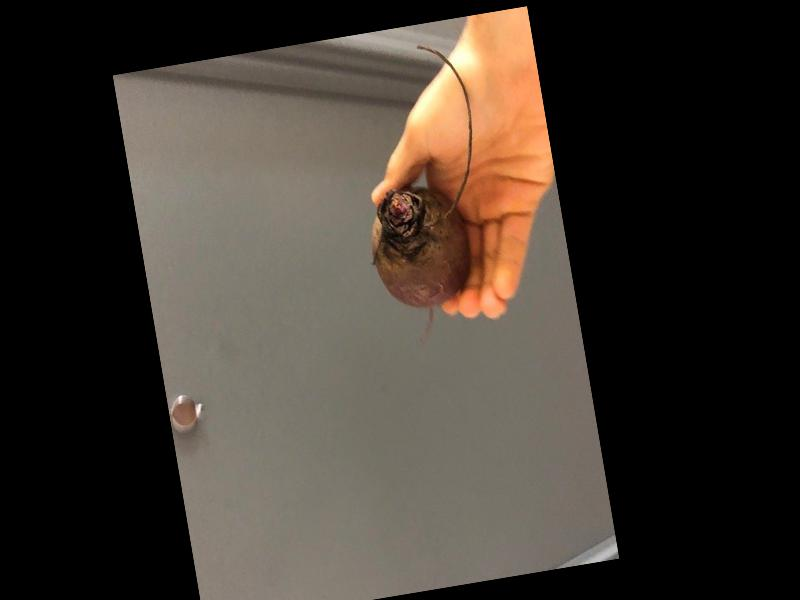Beet: (340, 39, 507, 345)
